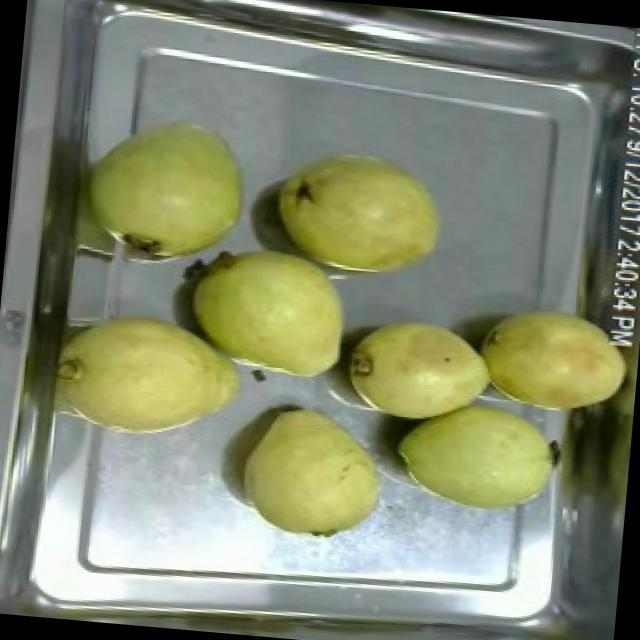Fruit: (56, 298, 255, 452), (80, 104, 260, 274), (178, 232, 364, 391), (264, 136, 454, 290), (386, 379, 572, 526), (231, 394, 397, 550), (463, 291, 638, 427), (336, 304, 502, 434)
